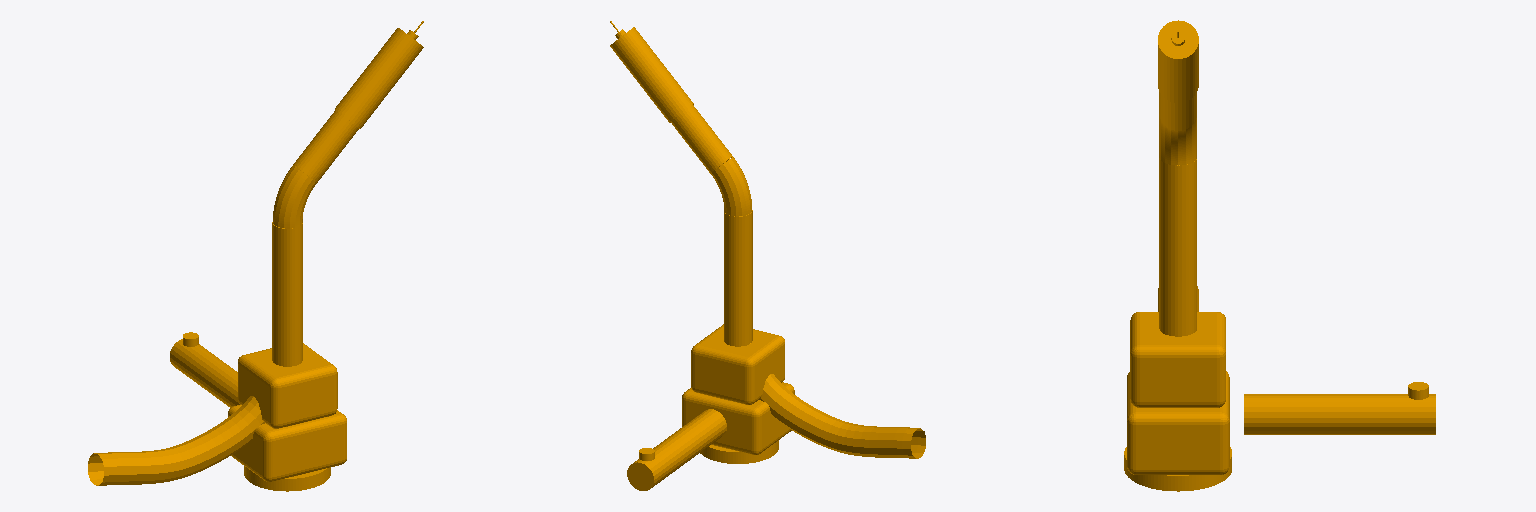
robot.urdf — daihen_bt350rd_30d_tmcu01:
<?xml version="1.0"?>
<robot name="daihen_bt350rd_30d_tmcu01">
<link name="mount"><visual ><geometry ><mesh filename="../meshes/mount.obj"/></geometry></visual><collision ><origin xyz="0 0 0.005" rpy="0 0 0"/><geometry ><cylinder radius="0.0315" length="0.01"/></geometry></collision><collision ><origin xyz="0 0 0.03" rpy="0 0 0"/><geometry ><box size="0.07 0.06 0.04"/></geometry></collision><collision ><origin xyz="0 0 0.07" rpy="0 0 0"/><geometry ><box size="0.056 0.056 0.04"/></geometry></collision><collision ><origin xyz="0 0.094 0.035" rpy="1.57079632679 0 0"/><geometry ><cylinder radius="0.012" length="0.112"/></geometry></collision><collision ><origin xyz="0 0 0.145" rpy="0 0 0"/><geometry ><cylinder radius="0.011" length="0.11"/></geometry></collision><collision ><origin xyz="0.0588388347648 0 0.279549512883" rpy="0 0.785398163397 0"/><geometry ><cylinder radius="0.012" length="0.135"/></geometry></collision></link>
<link name="tcp"></link>
<link name="torch_tip"></link>
<joint name="tcp_joint" type="fixed"><parent link="mount"/><child link="tcp"/><origin xyz="0.113639610307 0 0.334350288425" rpy="0 0.785398163397 0"/></joint>
<joint name="torch_tip_joint" type="fixed"><parent link="mount"/><child link="torch_tip"/><origin xyz="0.103033008589 0 0.323743686708" rpy="0 0.785398163397 0"/></joint>
</robot>

--- Facts derived from the render (not from the file) ---
Views: 3 orthographic renders of the robot side by side, from view 1: azimuth 30°, elevation 25°; view 2: azimuth 150°, elevation 25°; view 3: azimuth 270°, elevation 25°.
Robot: daihen_bt350rd_30d_tmcu01 — 3 links, 2 joints (2 fixed); root link mount; default pose: all joints at 0.
Visible links, largest first — view 1: mount; view 2: mount; view 3: mount.
Boxes of the visible links, x1,y1,x2,y2 form: mount: (88,21,423,491); mount: (610,21,925,490); mount: (1124,20,1435,491).
Bounding box of the posed robot: 0.2758 × 0.1815 × 0.3348 m (x, y, z).
1 mesh visuals loaded from 1 distinct referenced files (1 OBJ).
